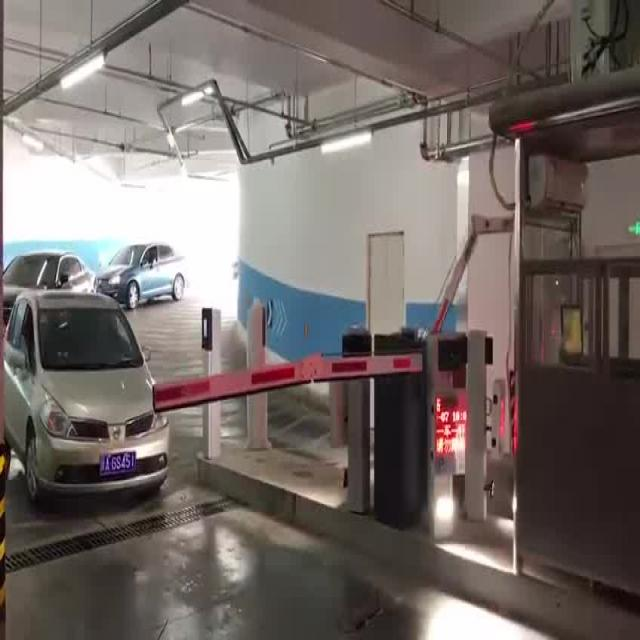CarIn: (1, 290, 174, 510), (91, 222, 197, 322), (1, 252, 94, 315)
GateClosed: (144, 336, 423, 409)
